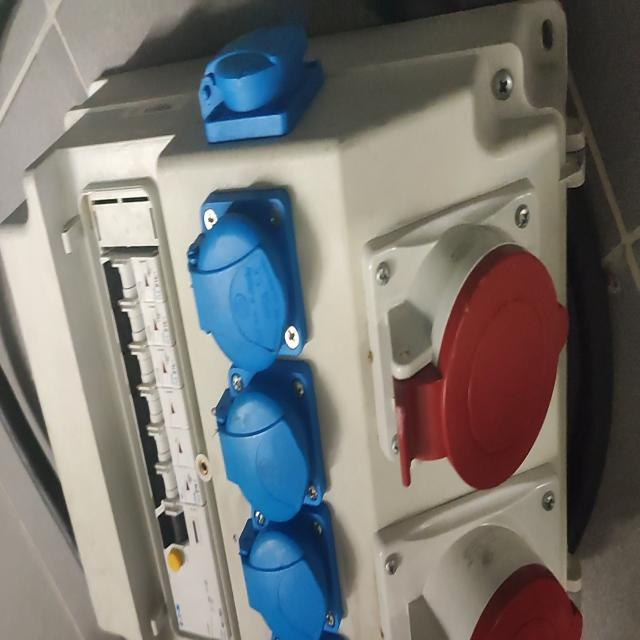400v socket: (360, 176, 573, 489), (372, 464, 582, 640)
house plug covered: (186, 189, 308, 369), (215, 366, 327, 519), (200, 27, 324, 144), (240, 506, 345, 640)
